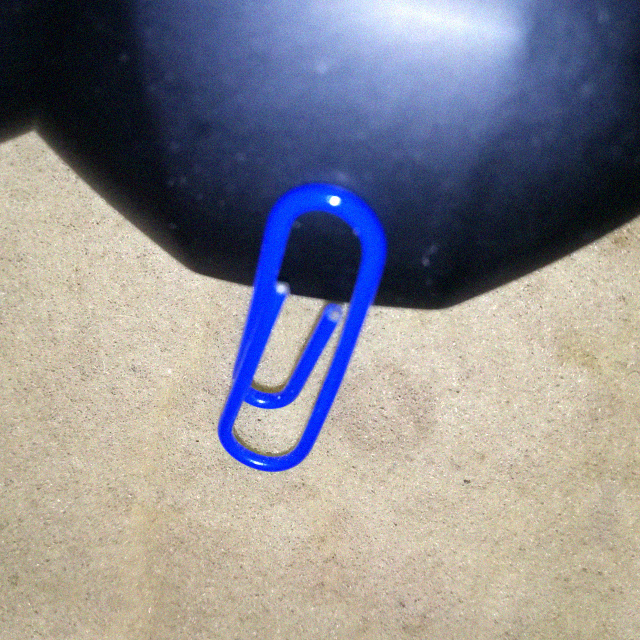pin: (210, 178, 393, 493)
